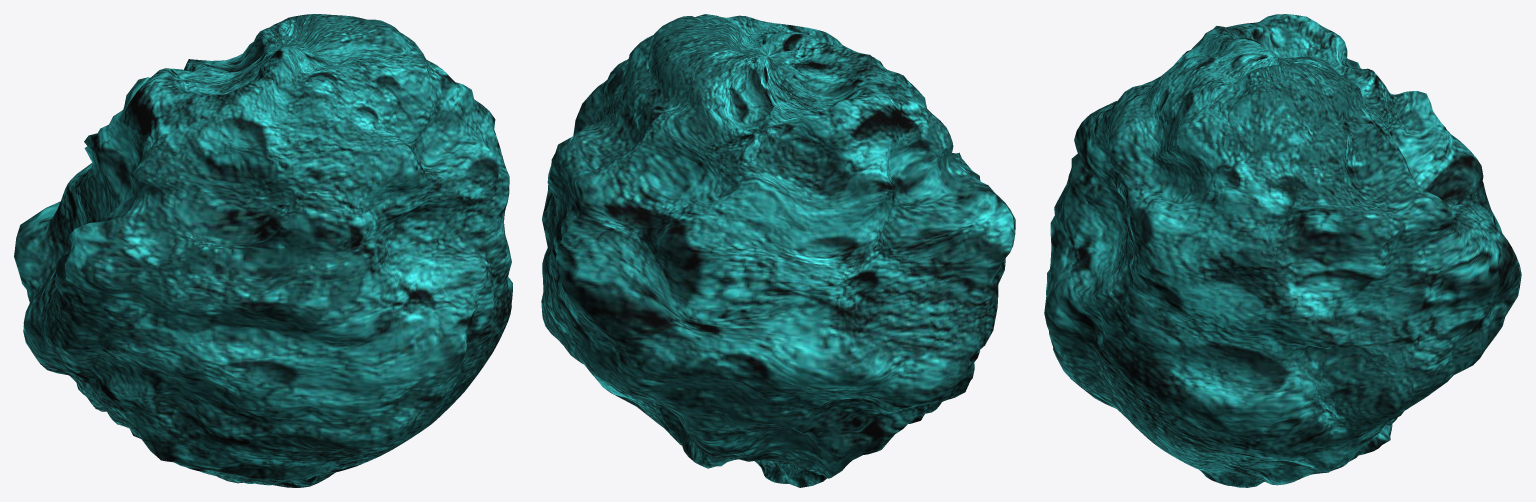
File: Meteor_FBX.fbx
3 renders of one model, left to right at view 1: azimuth 30°, elevation 25°; view 2: azimuth 150°, elevation 25°; view 3: azimuth 270°, elevation 25°, orthographic. The views are drawn at different scales.
Visible parts, largest first — view 1: Meteor_transform; view 2: Meteor_transform; view 3: Meteor_transform.
Boxes of the visible parts, bbox=[...] form: Meteor_transform: bbox=[14, 14, 512, 487]; Meteor_transform: bbox=[541, 14, 1015, 487]; Meteor_transform: bbox=[1044, 14, 1521, 487].
Size of the model in its own units: 20.6 by 19.79 by 19.62.
1 material, 1 textured.
